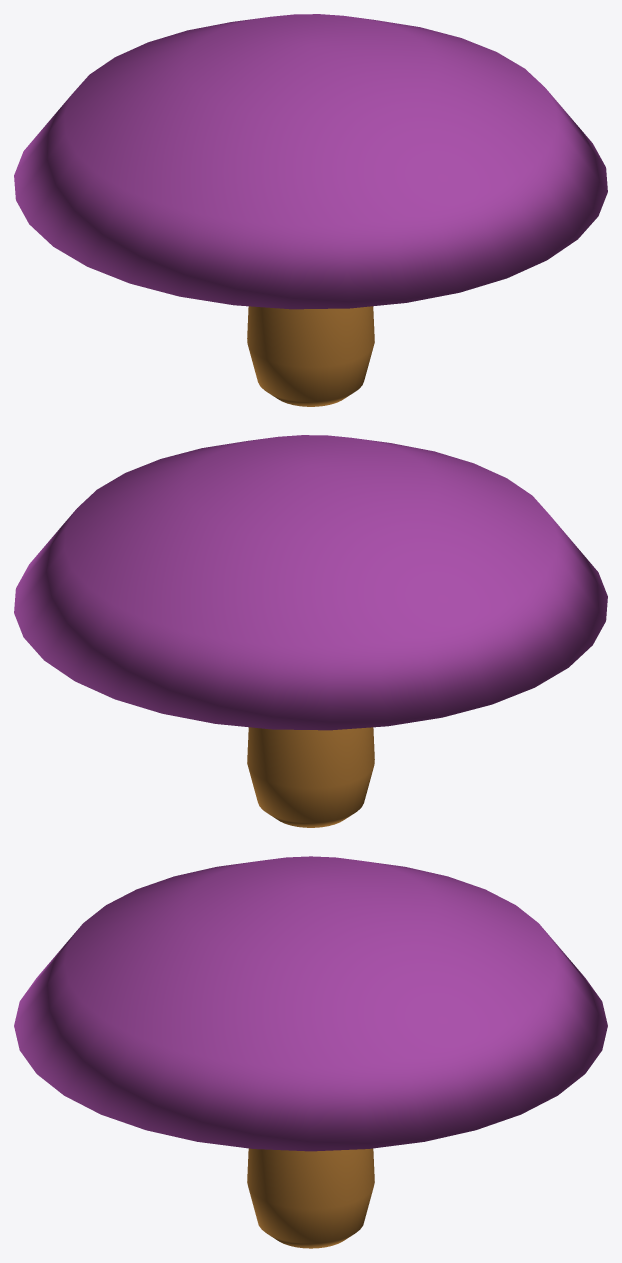
File: champignon006.fbx
3 renders of one model, top to bottom at view 1: azimuth 30°, elevation 25°; view 2: azimuth 150°, elevation 25°; view 3: azimuth 270°, elevation 25°, orthographic.
Parts seen in each view (by area): view 1: Circle; view 2: Circle; view 3: Circle.
Part boxes in pixels (bbox=[...]): Circle: bbox=[14, 14, 607, 406]; Circle: bbox=[14, 435, 607, 827]; Circle: bbox=[14, 856, 607, 1248].
Size of the model in its own units: 259 by 166 by 259.
